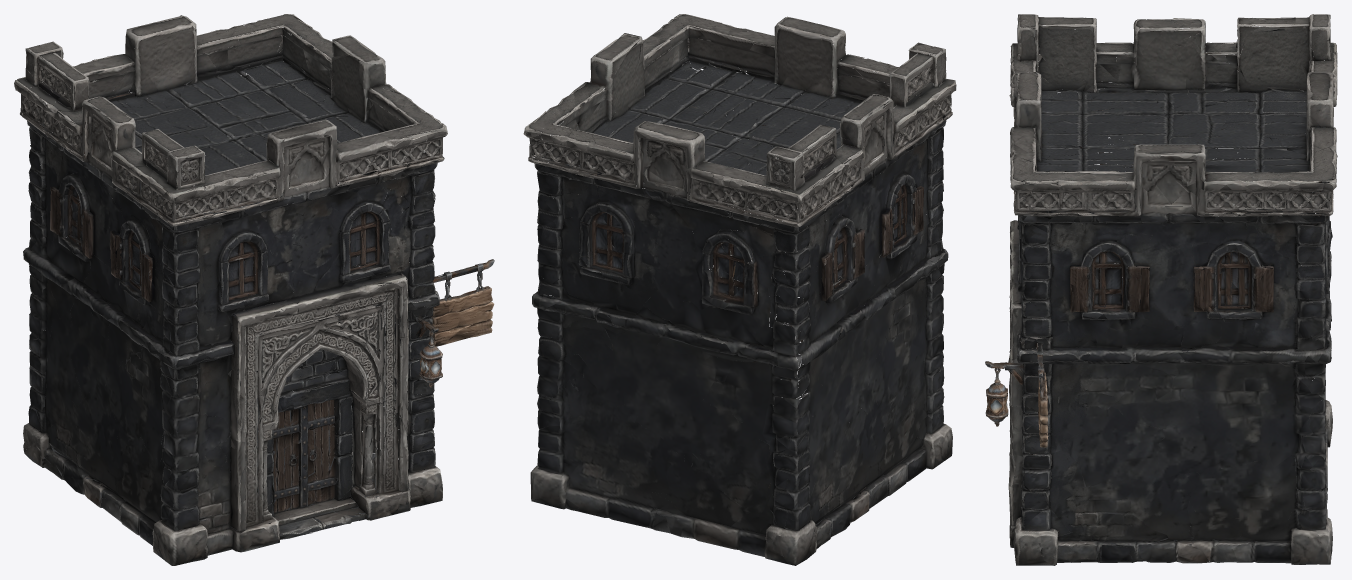
Rendered from M03_CornerBuilding.fbx.
3 views of the same model, side by side, from view 1: azimuth 30°, elevation 25°; view 2: azimuth 150°, elevation 25°; view 3: azimuth 270°, elevation 25° (orthographic). The views are drawn at different scales.
Visible parts, largest first — view 1: M03_CornerBuilding.051; view 2: M03_CornerBuilding.051; view 3: M03_CornerBuilding.051.
Boxes of the visible parts, x1,y1,x2,y2 form: M03_CornerBuilding.051: (14,14,494,565); M03_CornerBuilding.051: (523,14,956,565); M03_CornerBuilding.051: (985,14,1337,565).
Bounding box in the file's own units: 7.83 × 9 × 6.86.
1 material, 1 textured.
